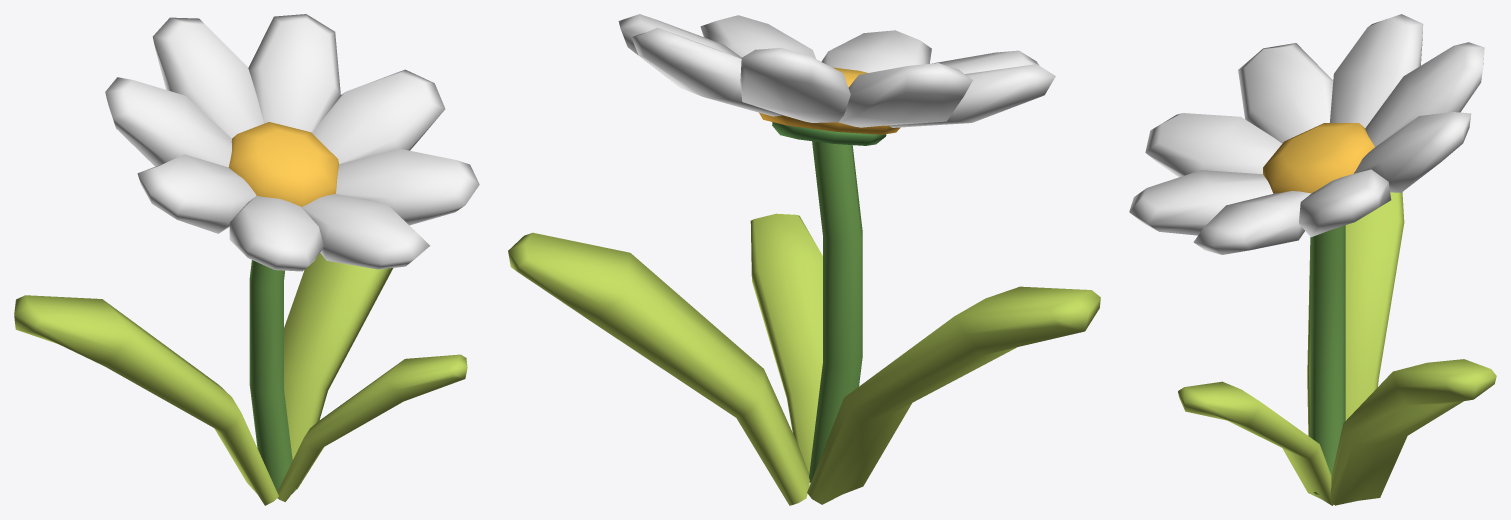
The model's file is platform_kit015.fbx.
3 renders of one model, left to right at view 1: azimuth 30°, elevation 25°; view 2: azimuth 150°, elevation 25°; view 3: azimuth 270°, elevation 25°, orthographic. The views are drawn at different scales.
Parts seen in each view (by area): view 1: platform_kit015; view 2: platform_kit015; view 3: platform_kit015.
Part boxes in pixels (<box>): platform_kit015: <box>14,14,479,505</box>; platform_kit015: <box>508,14,1100,505</box>; platform_kit015: <box>1129,14,1496,505</box>.
Size of the model in its own units: 63.46 by 58.8 by 45.2.
2 materials, 1 textured.
